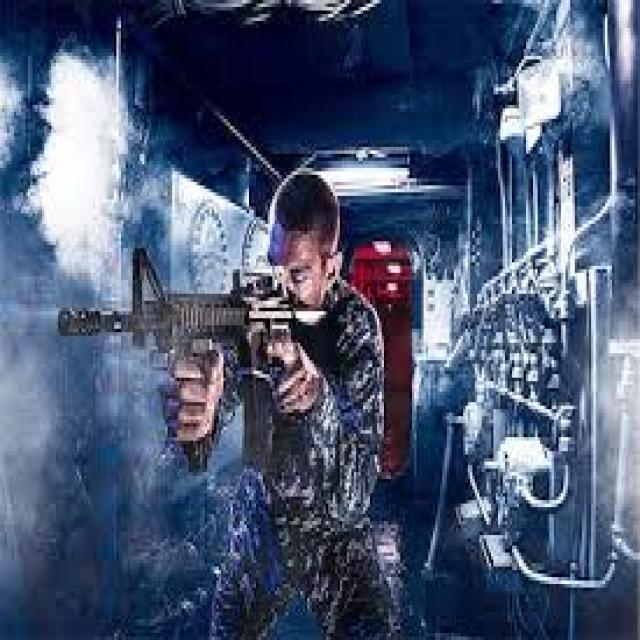soldier: (62, 164, 400, 640)
